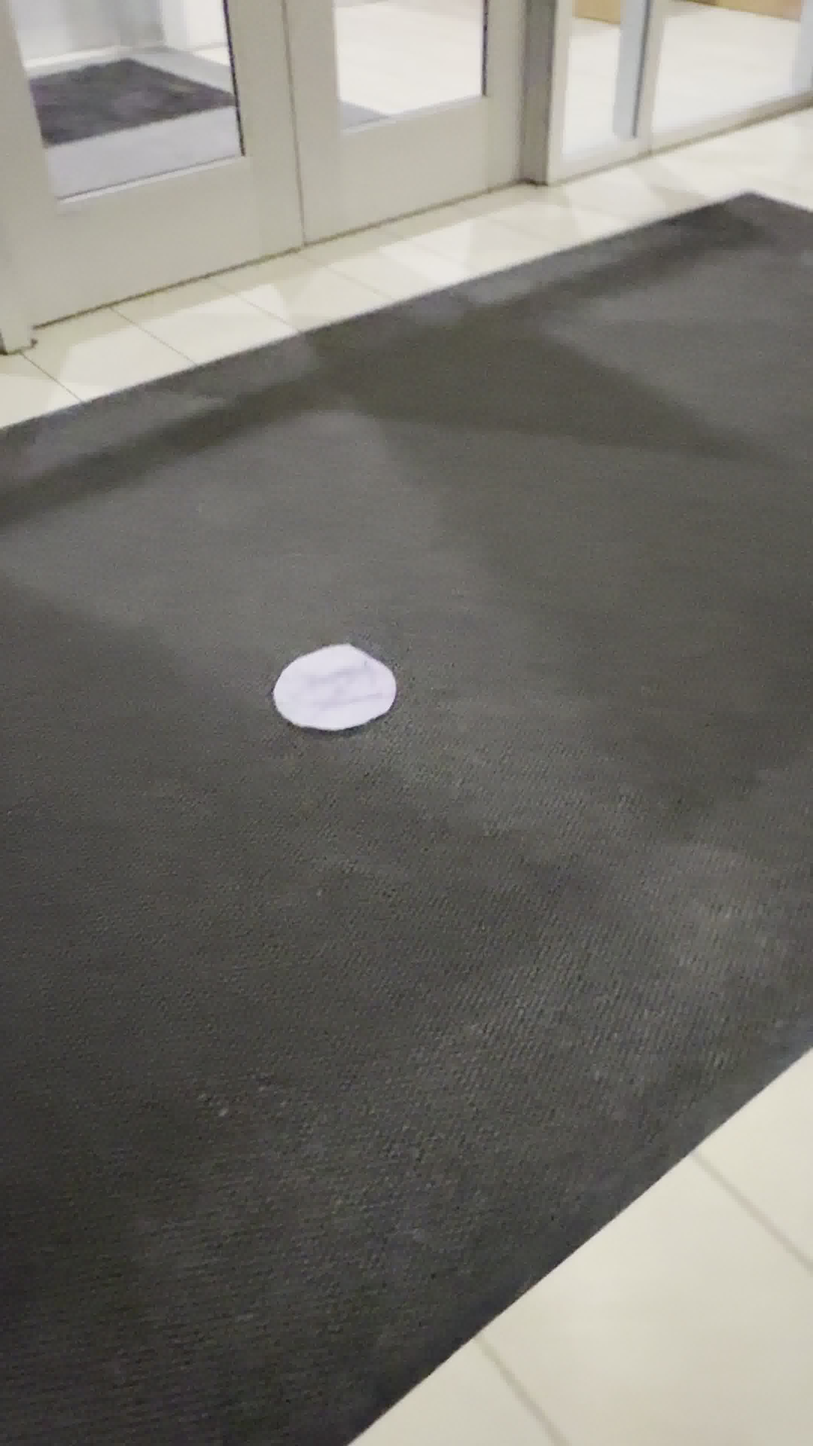Target: (272, 642, 396, 731)
